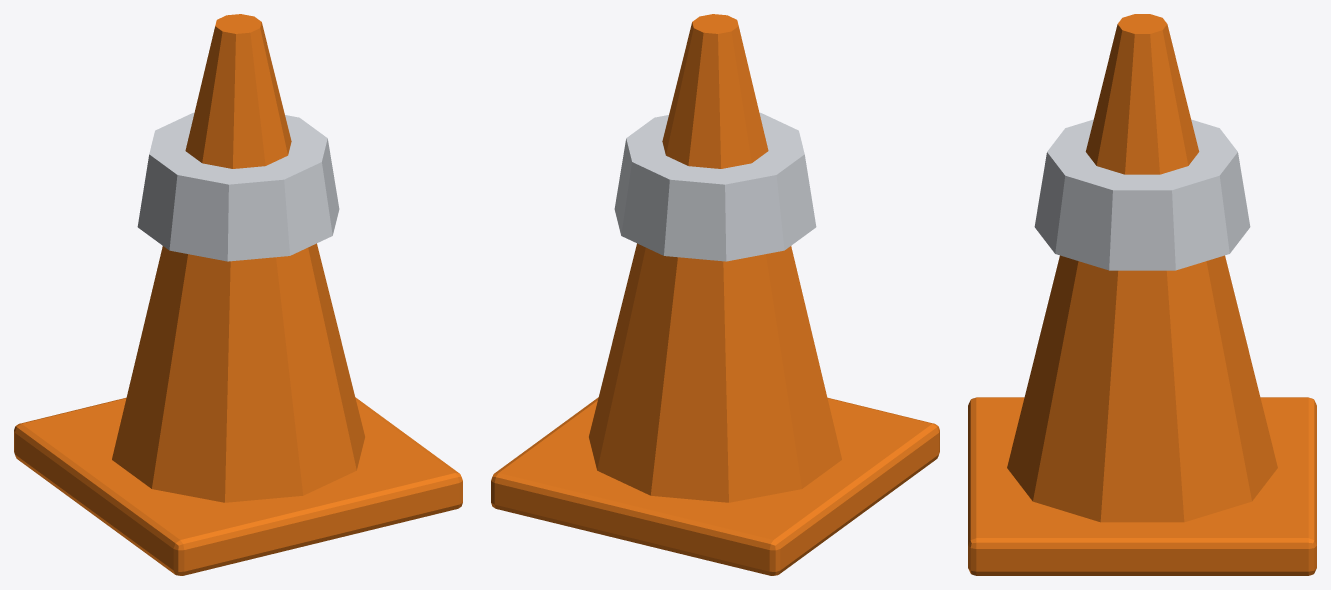
Rendered from prop_cone.glb.
The picture shows the model from 3 angles, left to right: view 1: azimuth 30°, elevation 25°; view 2: azimuth 150°, elevation 25°; view 3: azimuth 270°, elevation 25°; orthographic projection. The views are drawn at different scales.
Visible parts, largest first — view 1: Cone, Base, Band; view 2: Cone, Base, Band; view 3: Cone, Base, Band.
Boxes of the visible parts, bbox=[...] form: Cone: bbox=[112, 14, 364, 502]; Base: bbox=[14, 397, 462, 575]; Band: bbox=[137, 112, 339, 261]; Cone: bbox=[589, 14, 841, 502]; Base: bbox=[491, 397, 939, 575]; Band: bbox=[614, 112, 816, 261]; Cone: bbox=[1007, 14, 1277, 522]; Base: bbox=[968, 397, 1316, 575]; Band: bbox=[1034, 119, 1250, 270].
Size of the model in its own units: 0.42 by 0.64 by 0.42.
